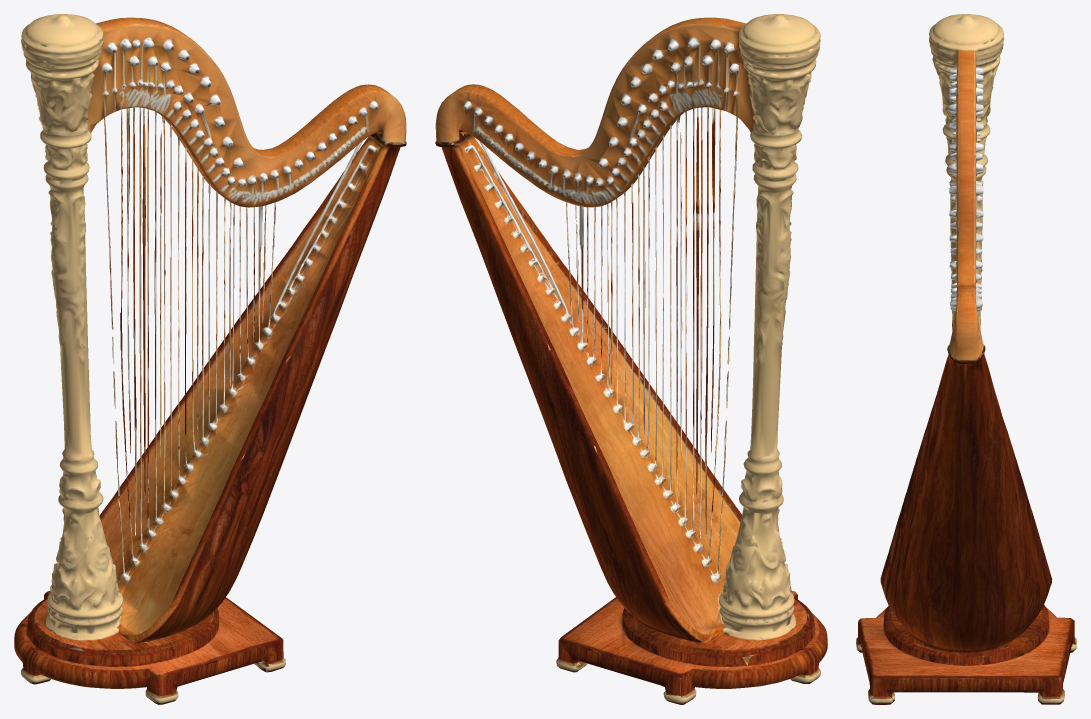
Rendered from harp.glb.
3 views of the same model, side by side, from view 1: azimuth 30°, elevation 25°; view 2: azimuth 150°, elevation 25°; view 3: azimuth 270°, elevation 25° (orthographic). The views are drawn at different scales.
Visible parts, largest first — view 1: mesh; view 2: mesh; view 3: mesh.
Part boxes in pixels (x1,y1,x2,y2): mesh: (14,14,406,704); mesh: (435,14,827,704); mesh: (856,14,1076,704).
Bounding box in the file's own units: 0.601 × 1 × 0.3273.
1 material, 1 textured.
